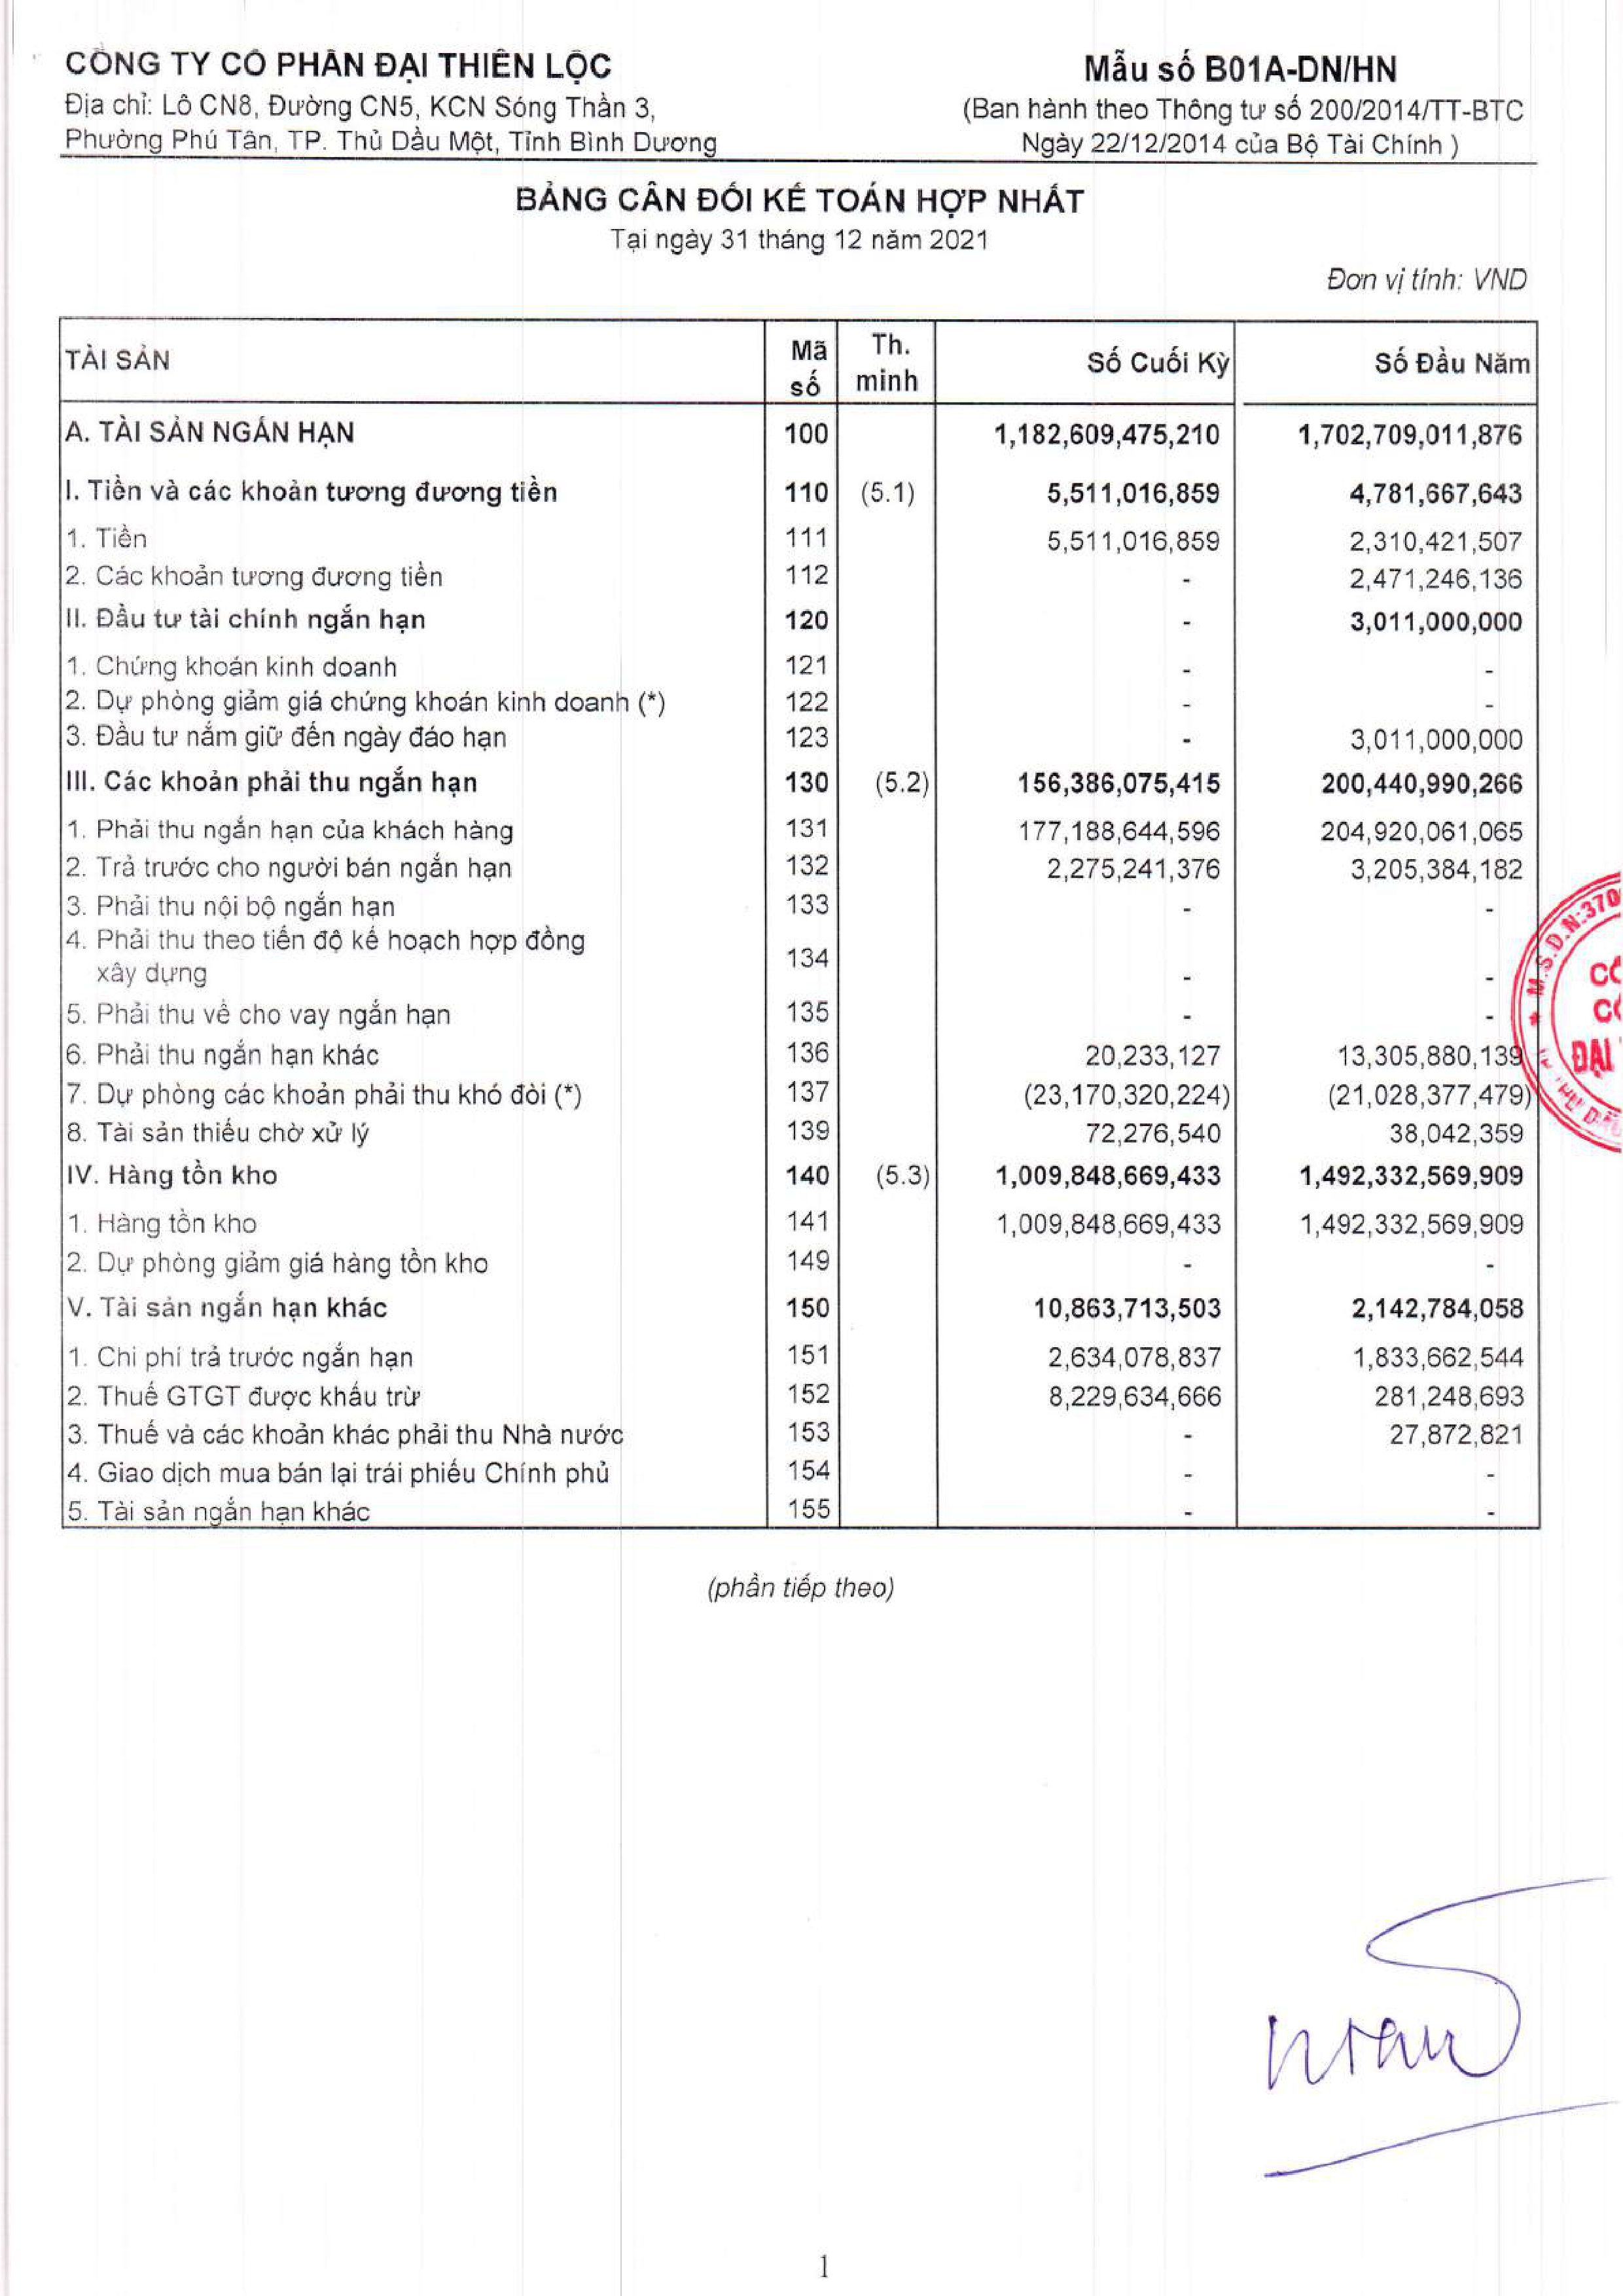table: (39, 300, 1558, 1550)
table column: (58, 300, 692, 1548), (1277, 300, 1539, 1550), (973, 300, 1235, 1548), (848, 298, 933, 1552), (766, 297, 838, 1552)
table column header: (39, 314, 1558, 409)
table row: (40, 330, 1558, 398), (40, 923, 1558, 992), (40, 411, 1558, 455), (40, 807, 1558, 850), (39, 1155, 1558, 1195), (40, 470, 1558, 511), (40, 1413, 1558, 1453), (39, 1113, 1558, 1152), (40, 518, 1558, 556), (40, 995, 1558, 1034), (40, 1202, 1558, 1241), (40, 1287, 1558, 1325), (40, 1338, 1558, 1376), (40, 558, 1558, 595), (40, 599, 1558, 635), (40, 646, 1558, 683), (40, 850, 1558, 886), (40, 886, 1558, 923), (40, 1036, 1558, 1073), (40, 1245, 1558, 1281), (40, 1453, 1558, 1490), (39, 1076, 1558, 1111), (39, 1492, 1558, 1527), (40, 720, 1558, 755), (40, 764, 1558, 799), (40, 1378, 1558, 1413), (40, 686, 1560, 718)
